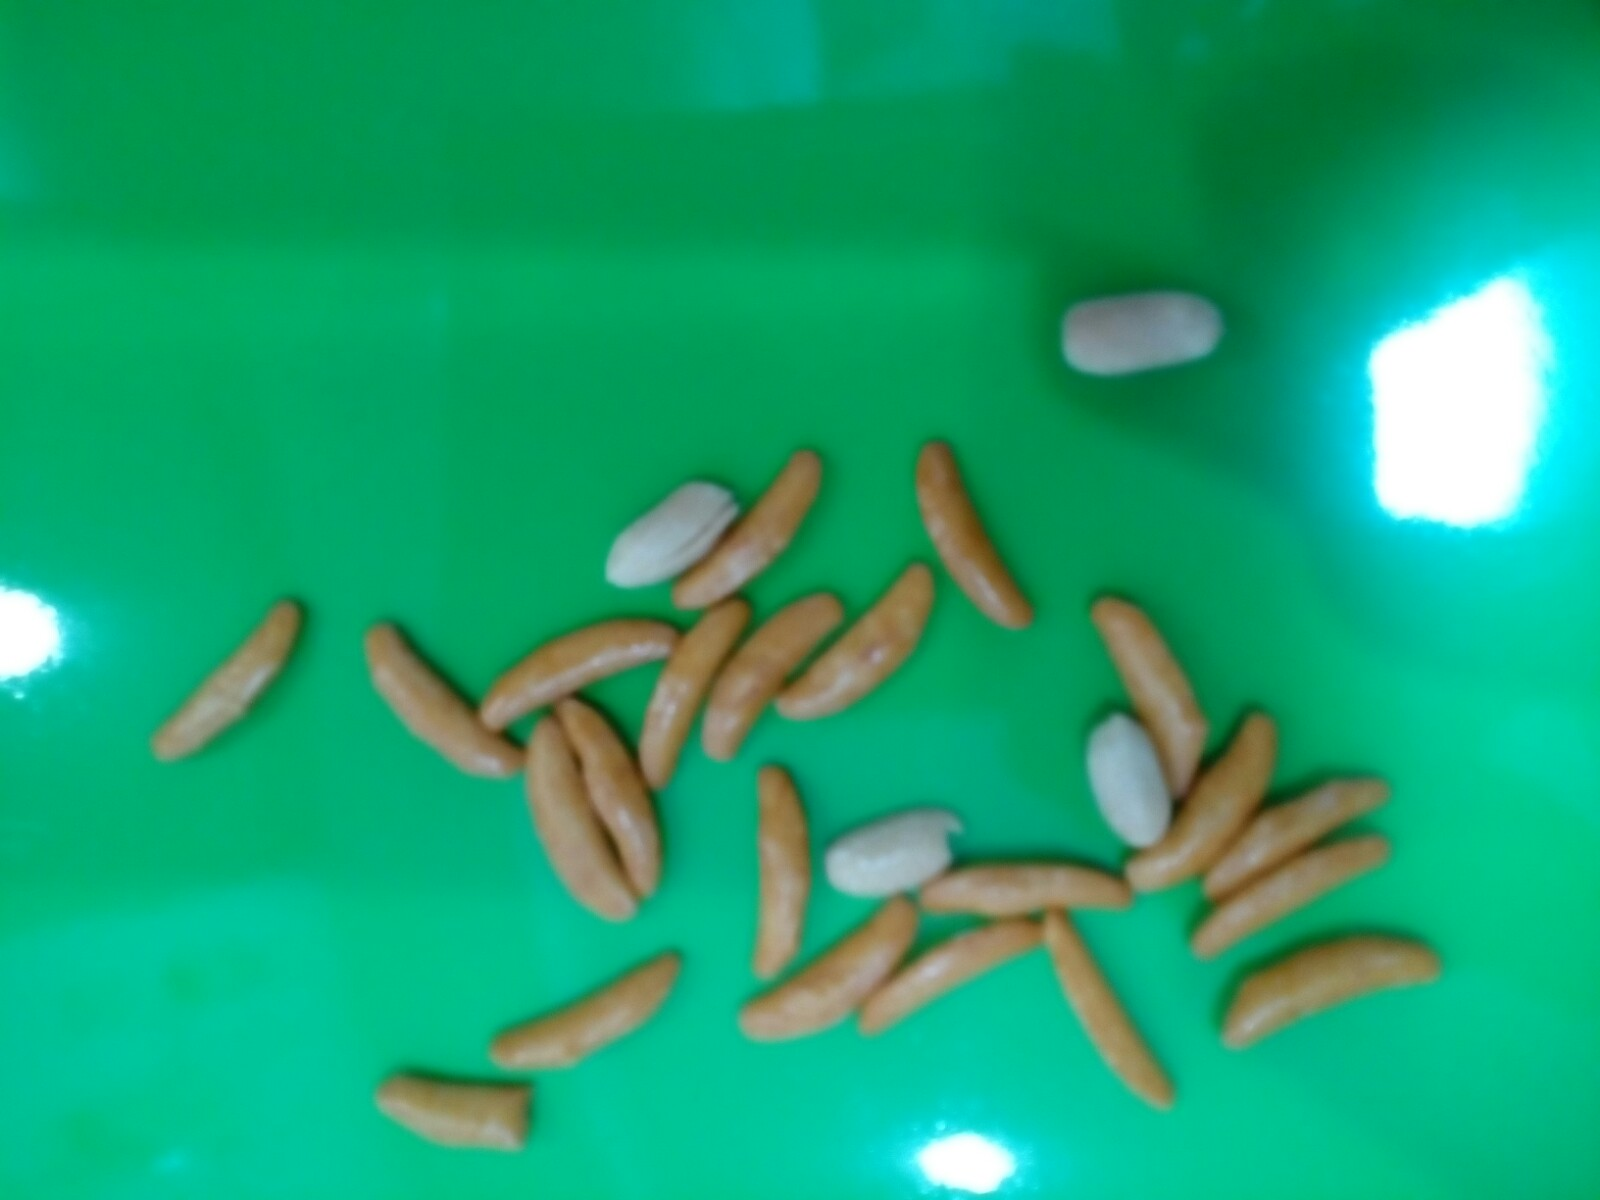peanut: (600, 463, 748, 596), (1056, 281, 1235, 387), (825, 803, 973, 911), (1083, 705, 1183, 855)
